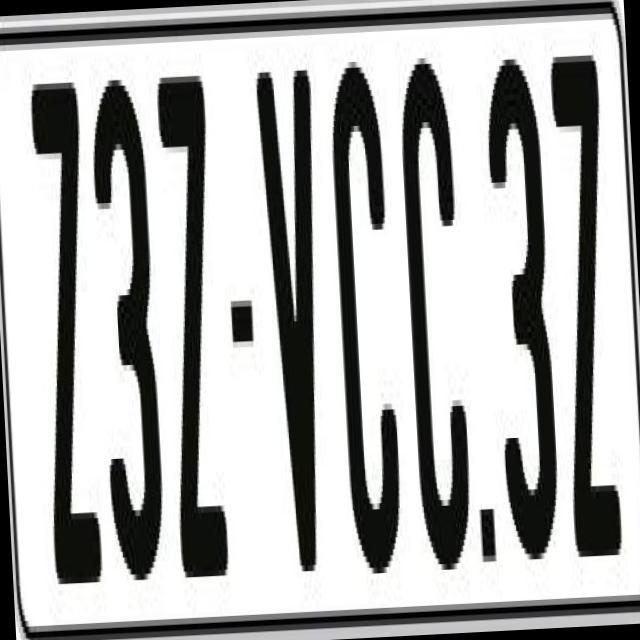3: (481, 52, 564, 566), (86, 67, 166, 581)
C: (393, 51, 478, 594), (328, 55, 407, 598)
V: (255, 52, 342, 584)
Z: (544, 38, 626, 546), (157, 75, 235, 601), (28, 70, 108, 573)
